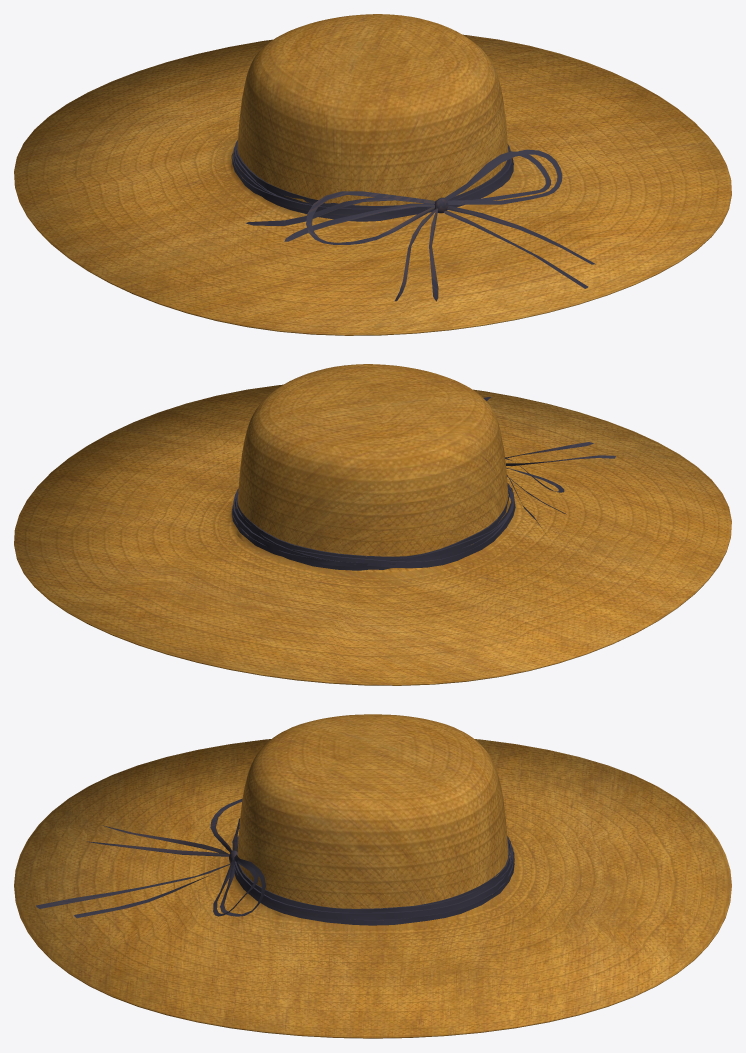
The model's file is StrawHat4Simpler.fbx.
3 renders of one model, top to bottom at view 1: azimuth 30°, elevation 25°; view 2: azimuth 150°, elevation 25°; view 3: azimuth 270°, elevation 25°, orthographic. The views are drawn at different scales.
Parts seen in each view (by area): view 1: Hat3, Plane.002, Cylinder.002; view 2: Hat3, Cylinder.002, Plane.002; view 3: Hat3, Cylinder.002, Plane.002.
Part boxes in pixels (bbox=[...]): Hat3: bbox=[14, 14, 731, 335]; Plane.002: bbox=[246, 149, 595, 301]; Cylinder.002: bbox=[232, 140, 513, 221]; Hat3: bbox=[14, 364, 731, 685]; Cylinder.002: bbox=[232, 483, 515, 570]; Plane.002: bbox=[483, 397, 615, 533]; Hat3: bbox=[14, 714, 731, 1038]; Cylinder.002: bbox=[234, 836, 514, 925]; Plane.002: bbox=[36, 798, 265, 918].
Bounding box in the file's own units: 424 × 90.16 × 424.
